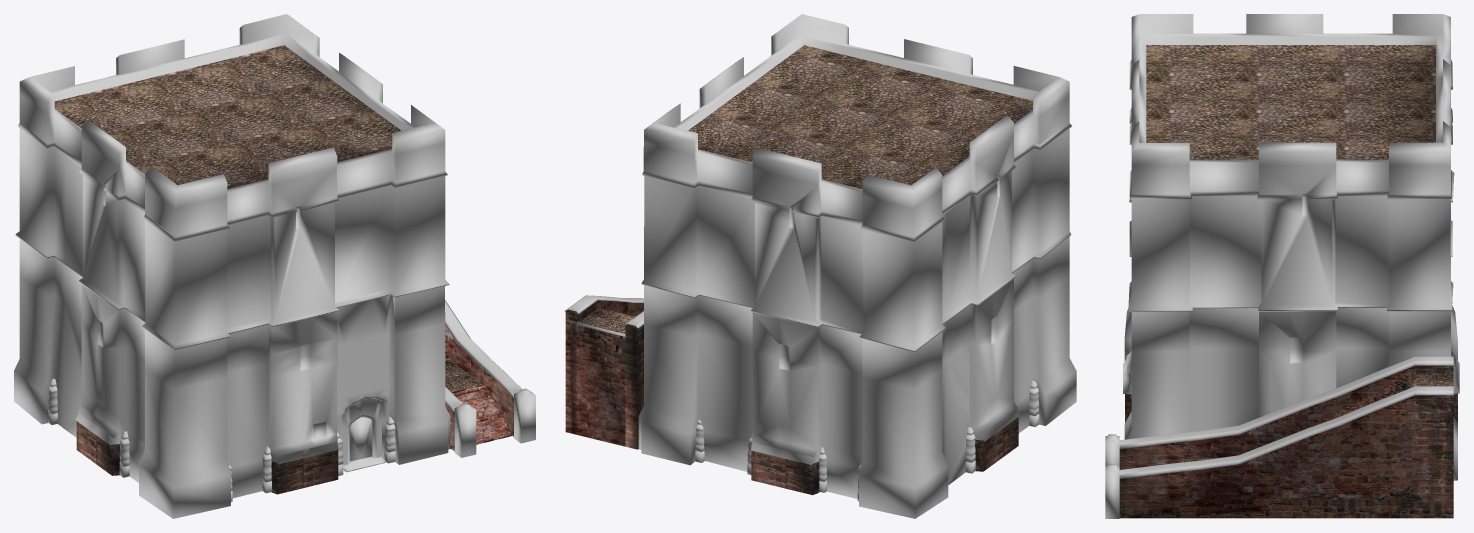
File: FortressKeep.fbx
The picture shows the model from 3 angles, left to right: view 1: azimuth 30°, elevation 25°; view 2: azimuth 150°, elevation 25°; view 3: azimuth 270°, elevation 25°; orthographic projection. The views are drawn at different scales.
Parts seen in each view (by area): view 1: FortressKeep; view 2: FortressKeep; view 3: FortressKeep.
Boxes of the visible parts, x1=… form: FortressKeep: x1=14, y1=14, x2=535, y2=518; FortressKeep: x1=564, y1=14, x2=1076, y2=518; FortressKeep: x1=1105, y1=14, x2=1459, y2=518.
Bounding box in the file's own units: 859 × 755 × 723.
